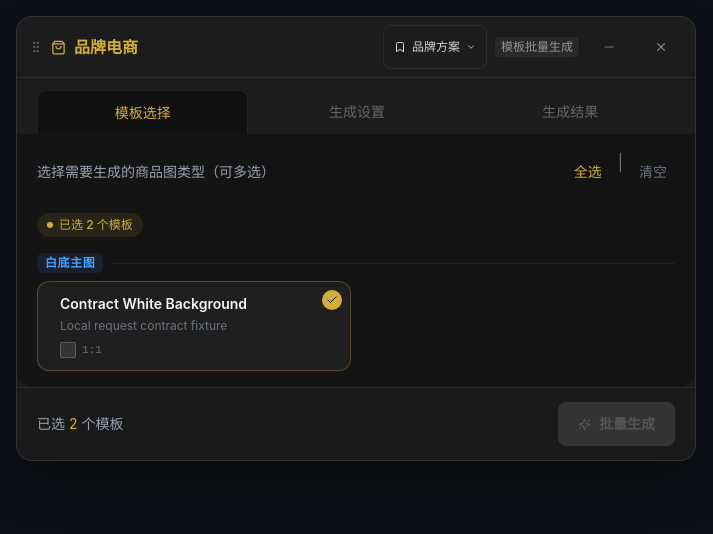
Test: brand ecommerce provider selection request contract › shows the upstream error when AI assist requests fail
The image size is (713, 534).
Check: the text "Contract White Background" is shown, box left=60, top=294, right=247, bottom=314
Click the button "生成设置" at (357, 112), box left=252, top=90, right=462, bottom=134
(page scrolled)
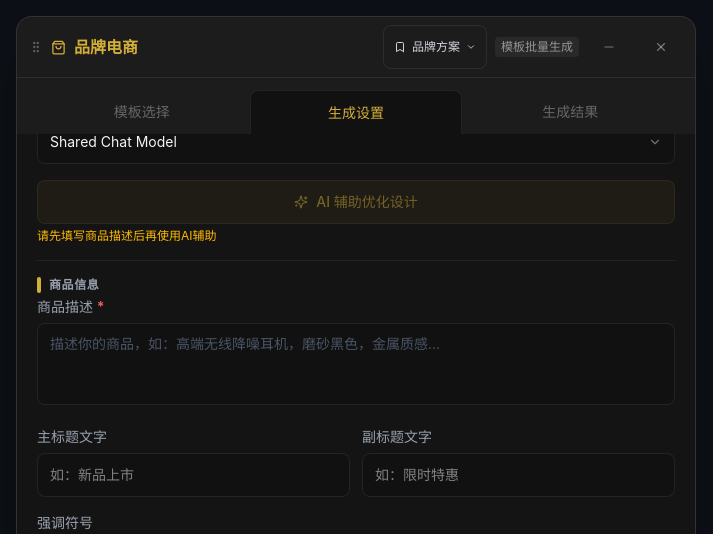
Type "A plain ceramic cup for a local contract test" into the text box with placeholder "描述你的商品，如：高端无线降噪耳机，磨砂黑色，金属质感..." at (356, 364), box left=37, top=323, right=675, bottom=405
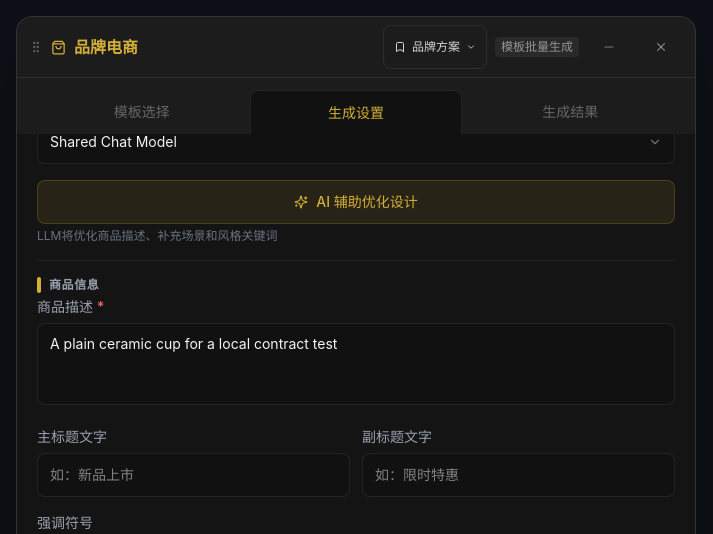
Click the button "Shared Chat Model" at (113, 142), box left=37, top=120, right=675, bottom=164
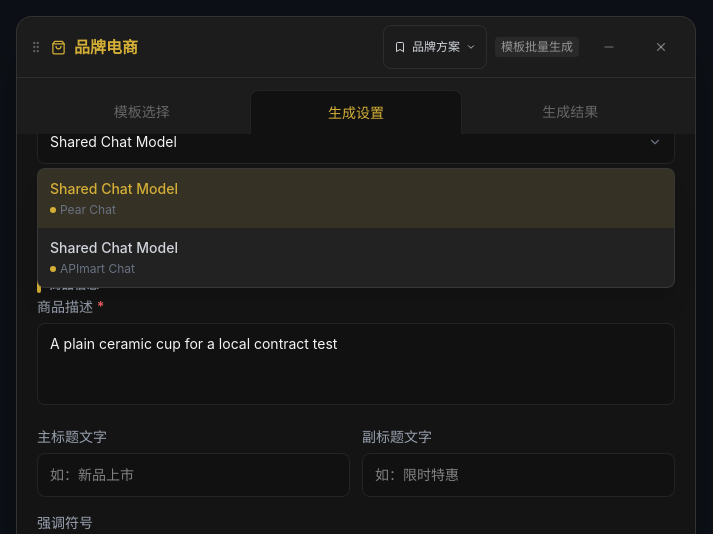
Click the button "Shared Chat Model APImart Chat" at (114, 248), box left=38, top=228, right=674, bottom=287
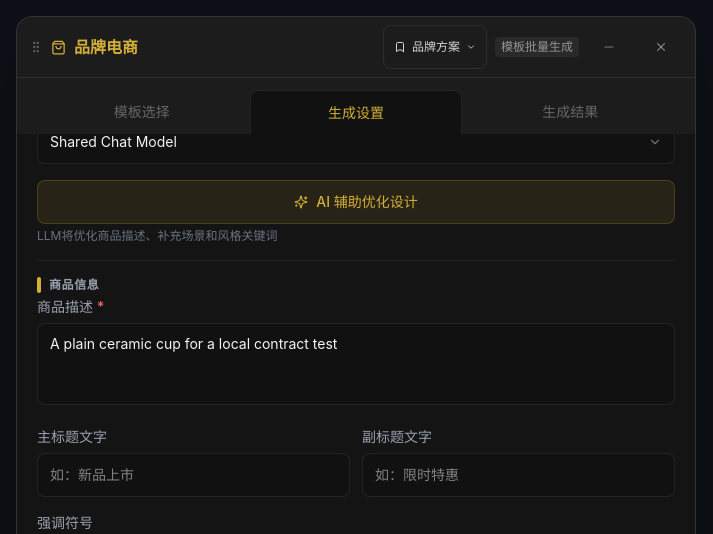
Click the button "AI 辅助优化设计" at (356, 202), box left=37, top=180, right=675, bottom=224
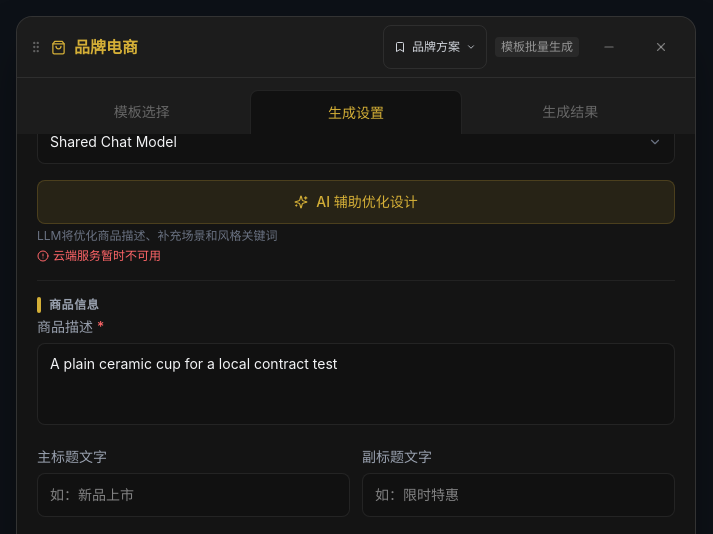
Check: the text "云端服务暂时不可用" is shown, box left=37, top=248, right=161, bottom=263
